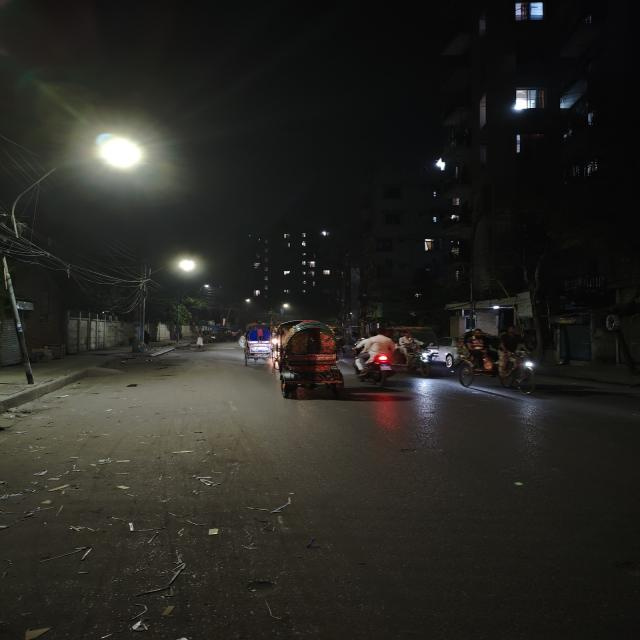motorcycle: (353, 330, 404, 386)
pedestrian: (120, 332, 147, 362), (191, 330, 209, 350)
rickshaw: (450, 326, 544, 395), (271, 319, 348, 401), (235, 322, 277, 370), (399, 328, 442, 372)
